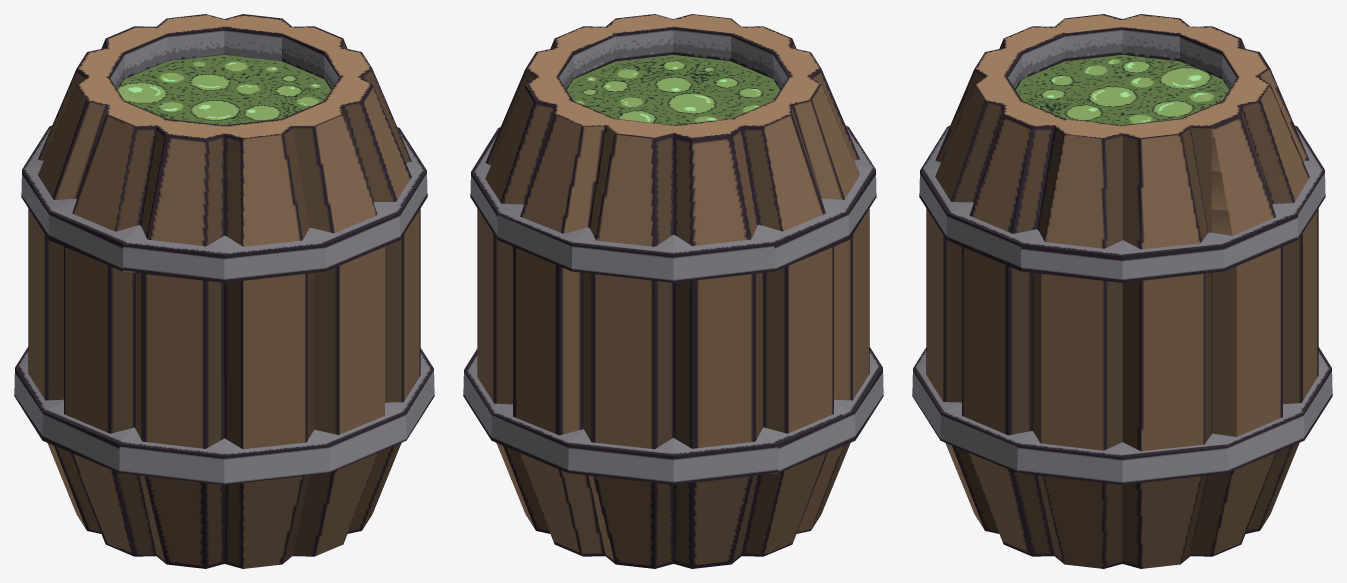
The model's file is Barrel.fbx.
3 renders of one model, left to right at view 1: azimuth 30°, elevation 25°; view 2: azimuth 150°, elevation 25°; view 3: azimuth 270°, elevation 25°, orthographic.
Parts seen in each view (by area): view 1: Circle; view 2: Circle; view 3: Circle.
Part boxes in pixels (box(x1,y1,x2,y2)): Circle: box(14, 14, 434, 568); Circle: box(463, 14, 883, 568); Circle: box(912, 14, 1332, 568).
Size of the model in its own units: 65.85 by 74.3 by 65.85.
